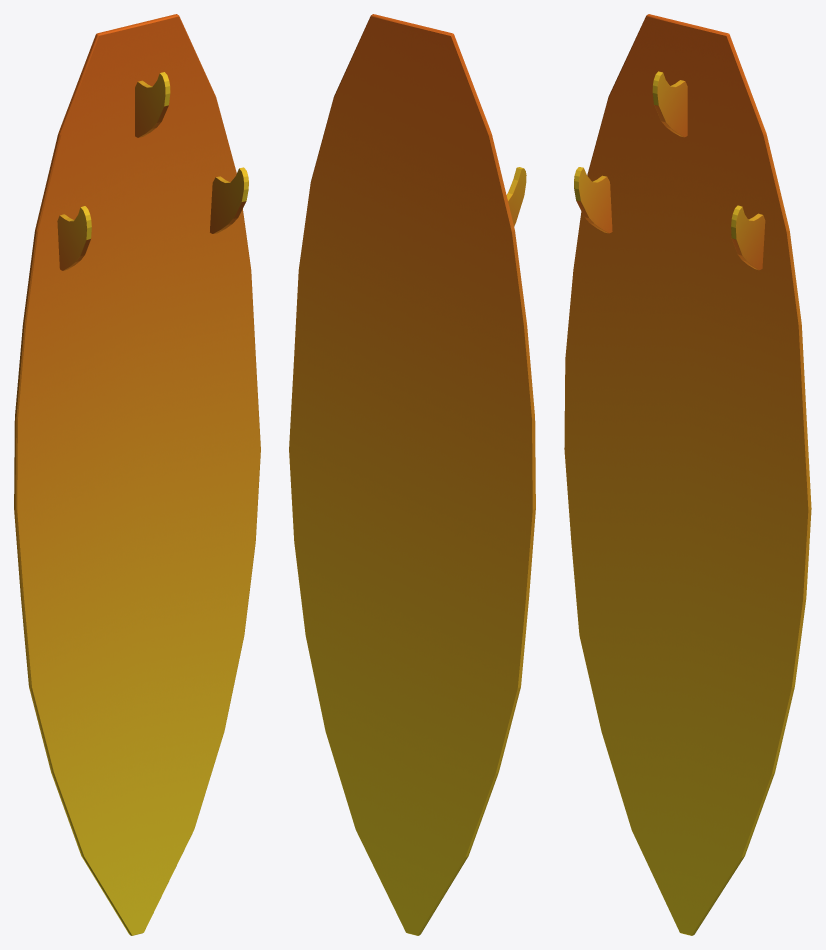
The model's file is surfboardSunset.fbx.
3 renders of one model, left to right at view 1: azimuth 30°, elevation 25°; view 2: azimuth 150°, elevation 25°; view 3: azimuth 330°, elevation 25°, orthographic.
Visible parts, largest first — view 1: surfingBoard; view 2: surfingBoard; view 3: surfingBoard.
Boxes of the visible parts, box(x1,y1,x2,y2) form: surfingBoard: box(14, 14, 260, 935); surfingBoard: box(289, 14, 535, 935); surfingBoard: box(564, 14, 811, 935).
Size of the model in its own units: 1.36 by 4.8 by 0.3174.
